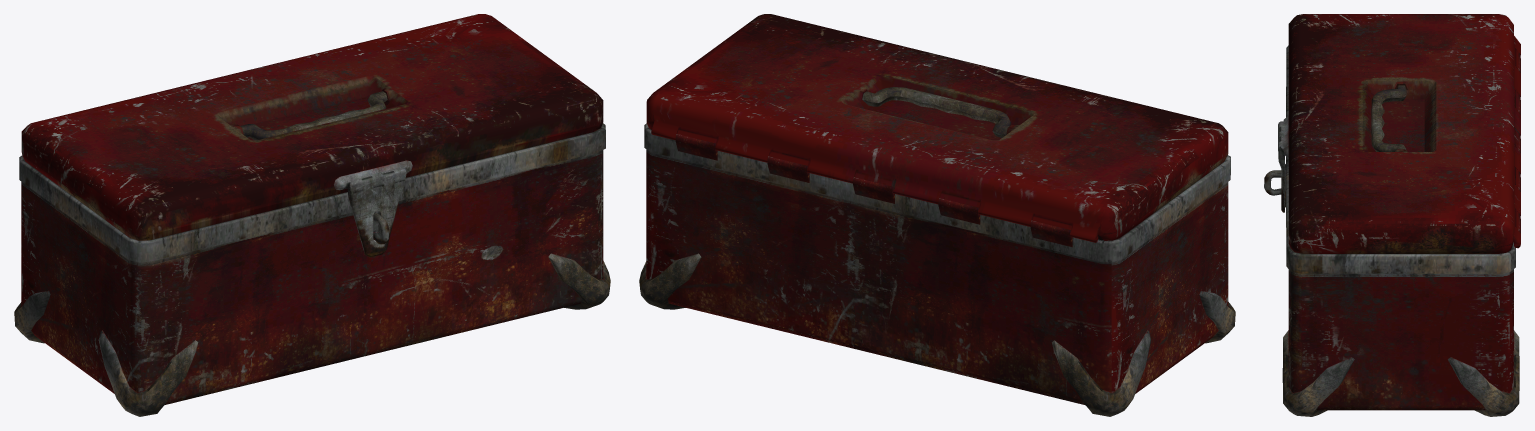
The model's file is SupplyBox.obj.
3 renders of one model, left to right at view 1: azimuth 30°, elevation 25°; view 2: azimuth 150°, elevation 25°; view 3: azimuth 270°, elevation 25°, orthographic. The views are drawn at different scales.
Visible parts, largest first — view 1: Mesh0; view 2: Mesh0; view 3: Mesh0.
Part boxes in pixels (<box>): Mesh0: <box>14,14,610,416</box>; Mesh0: <box>639,14,1235,416</box>; Mesh0: <box>1264,14,1520,416</box>.
Size of the model in its own units: 0.5484 by 0.2303 by 0.2718.
Materials: 1 (1 with a texture image).
